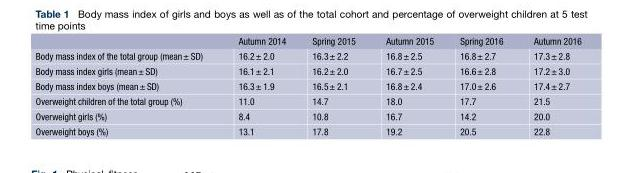table: (34, 34, 580, 136)
table column: (34, 34, 219, 136), (219, 34, 298, 136), (370, 34, 446, 136), (298, 34, 370, 136), (446, 34, 517, 136), (517, 34, 580, 136)
table column header: (34, 34, 580, 47)
table row: (34, 62, 580, 78), (34, 47, 580, 62), (34, 78, 580, 93), (34, 93, 580, 108), (34, 108, 580, 123), (34, 34, 580, 47), (34, 123, 580, 136)
